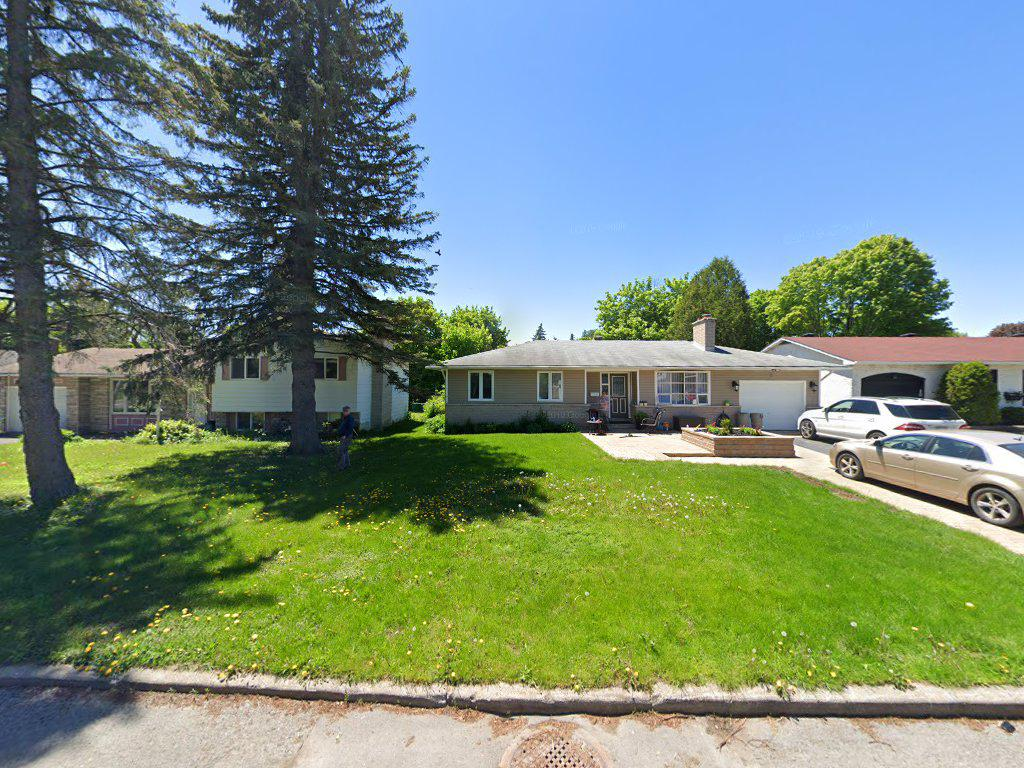trunk: (7, 210, 74, 537), (284, 267, 323, 467)
